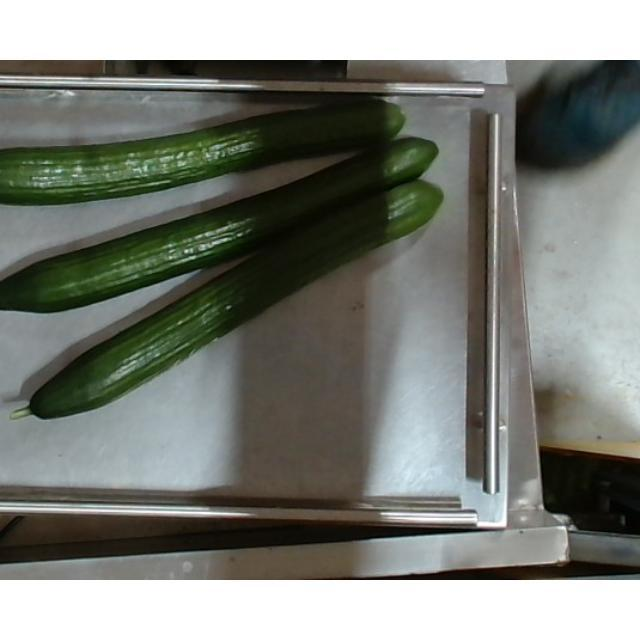cucumber: (11, 180, 443, 422), (0, 137, 440, 316), (1, 100, 406, 206)
